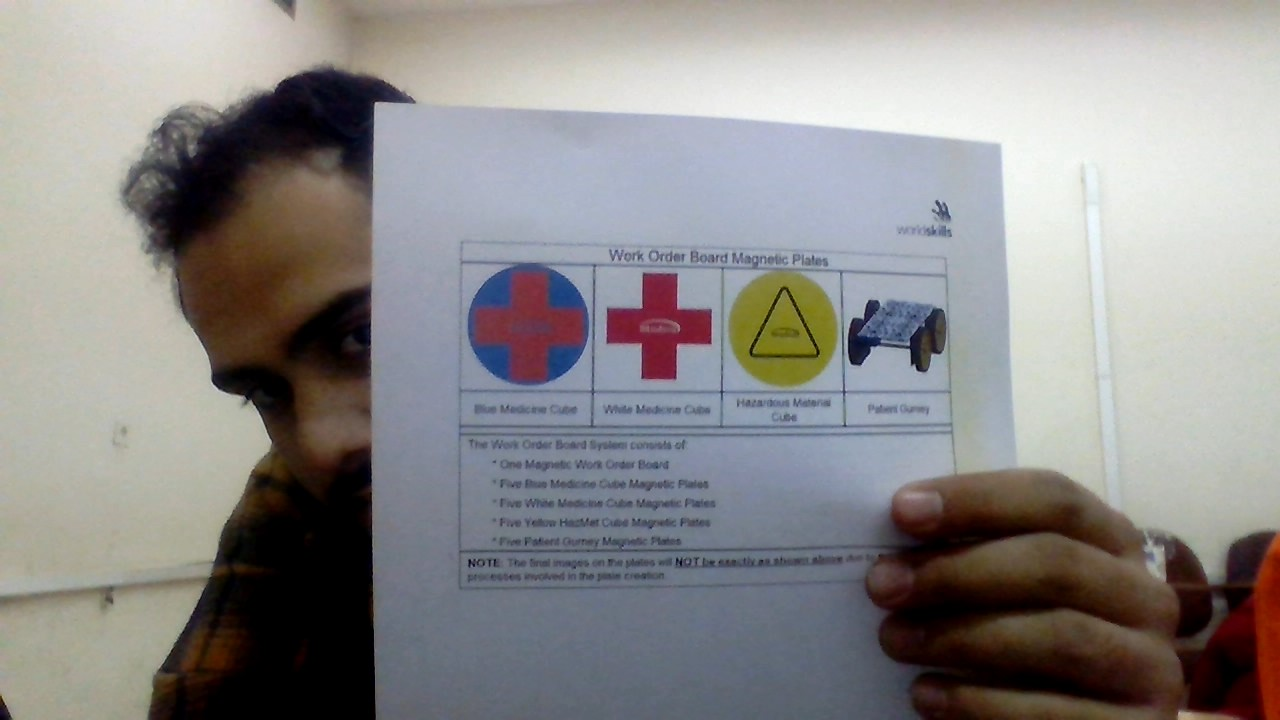bmc: (464, 264, 592, 389)
hmc: (725, 271, 840, 388)
pg: (842, 271, 947, 387)
wmc: (598, 268, 720, 387)
